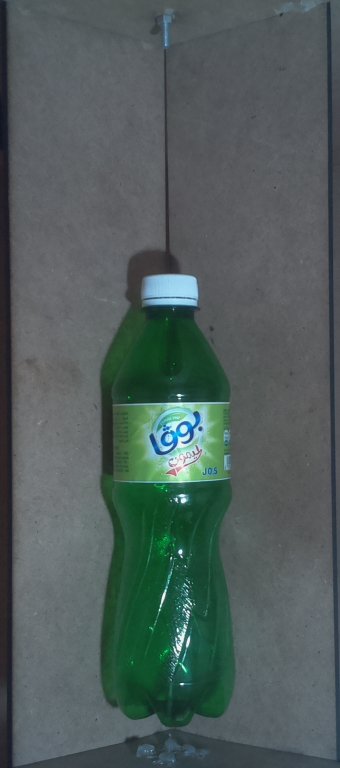Bouteille_0.5L: (95, 264, 244, 736)
